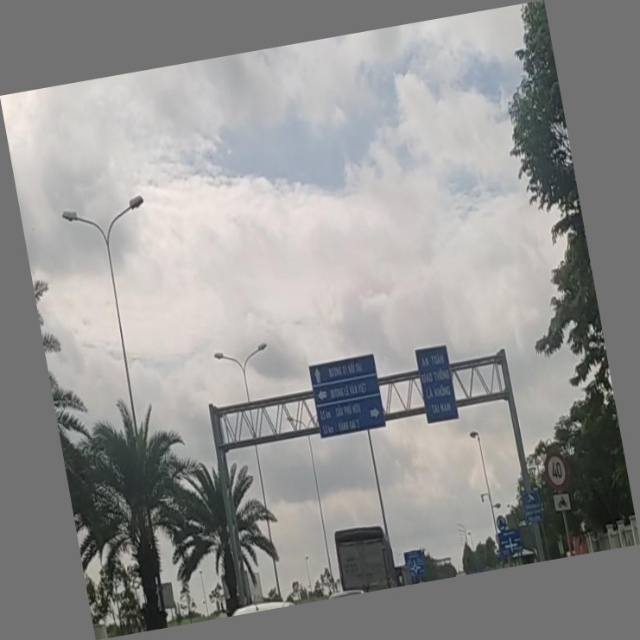P.127*40: (542, 447, 571, 490)
S.505a*Xe may: (550, 489, 574, 516)
